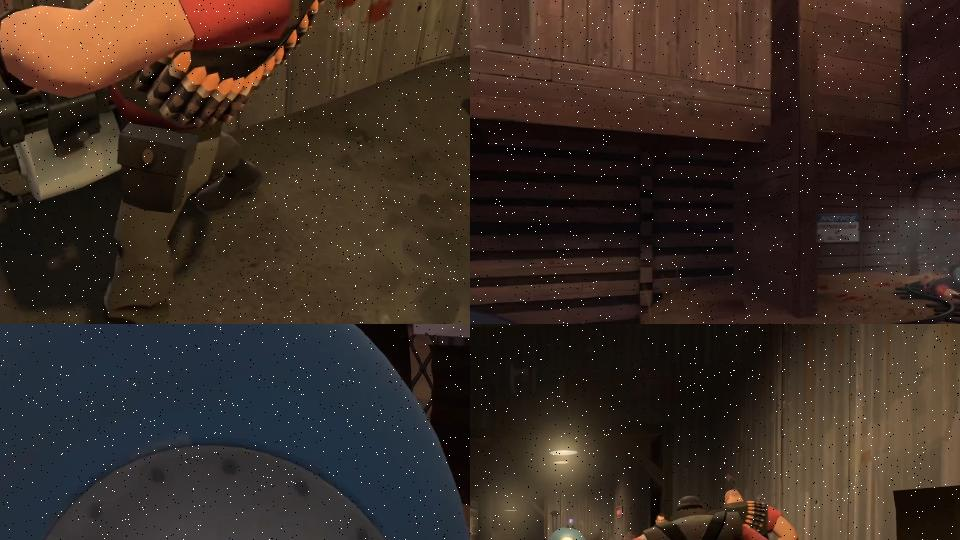Enemy: (0, 0, 348, 298), (708, 488, 799, 540), (917, 274, 960, 301), (629, 512, 667, 540)
